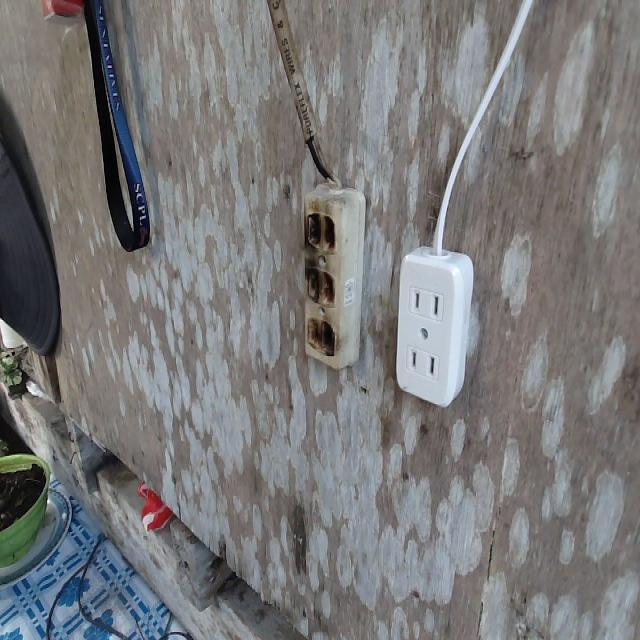-: (297, 203, 339, 361)
